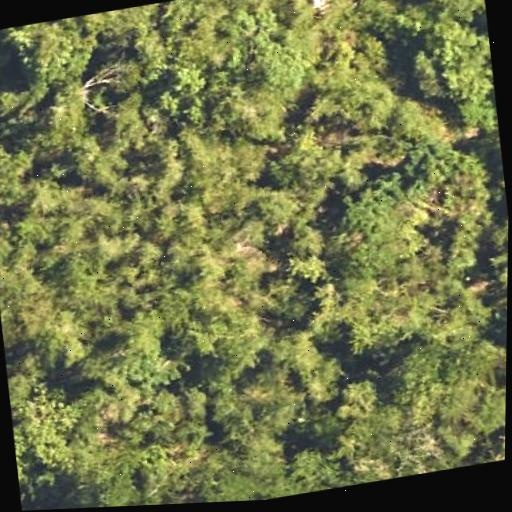tree-top: (404, 9, 502, 151), (384, 324, 507, 434), (388, 133, 498, 244), (330, 172, 432, 281), (311, 27, 410, 137), (8, 375, 107, 479), (219, 0, 320, 96), (176, 118, 270, 220), (93, 341, 180, 438), (185, 295, 280, 378), (0, 14, 101, 92), (146, 41, 232, 131), (260, 119, 354, 200), (57, 129, 143, 211), (200, 377, 289, 453), (321, 281, 413, 353), (250, 435, 342, 501), (418, 277, 495, 348), (0, 251, 54, 350), (60, 466, 180, 509), (17, 198, 103, 256), (36, 302, 97, 374), (70, 1, 172, 44), (48, 243, 114, 309), (103, 303, 168, 369), (39, 80, 102, 141), (273, 322, 333, 381), (0, 139, 42, 213), (437, 224, 492, 280), (144, 136, 191, 200), (250, 181, 308, 232), (329, 377, 379, 433), (297, 357, 347, 413), (465, 379, 506, 444), (197, 461, 257, 503), (172, 382, 212, 441), (289, 245, 338, 288), (192, 238, 233, 289), (411, 0, 487, 26), (261, 267, 304, 312), (106, 89, 148, 134), (103, 55, 143, 98), (481, 226, 508, 288), (289, 223, 327, 263), (133, 233, 169, 274), (161, 241, 195, 280)
